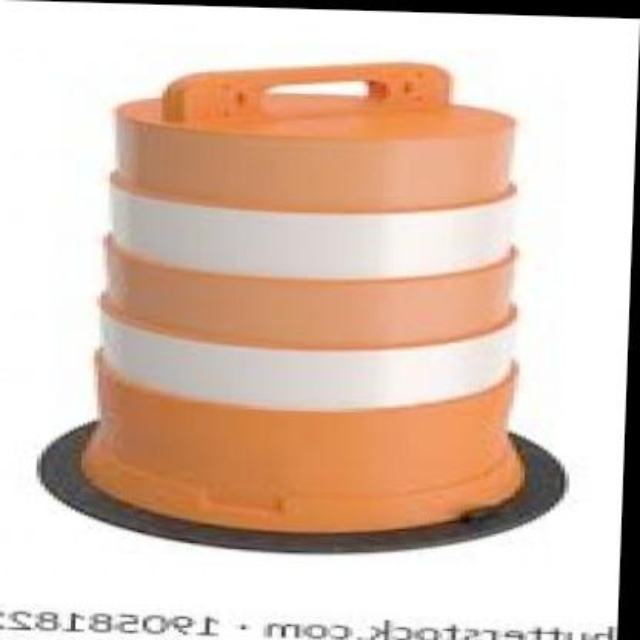obstacle: (61, 77, 571, 541)
